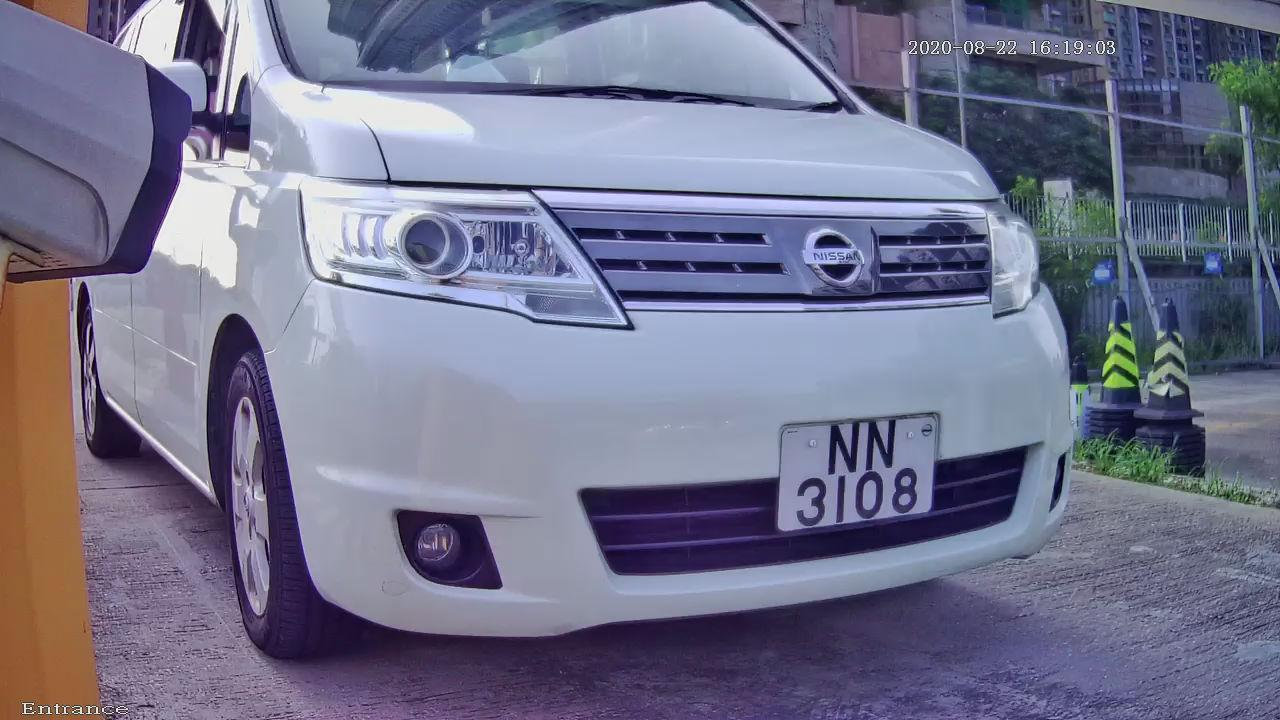License Plate: (766, 396, 949, 547)
